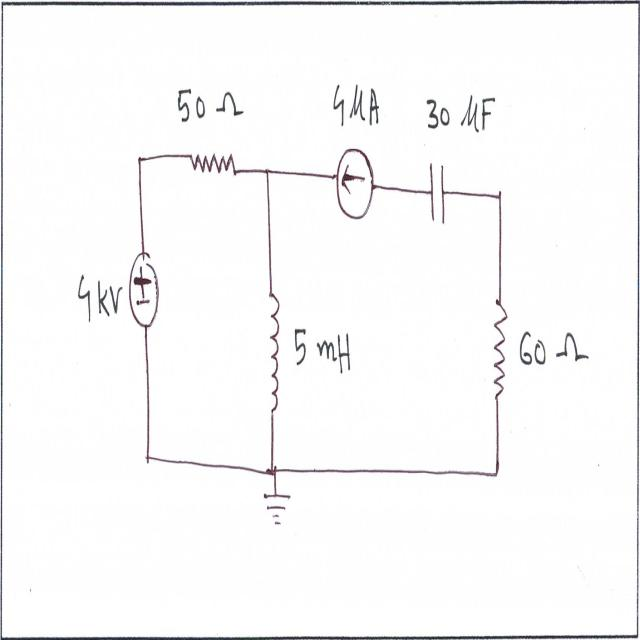capacitor: (425, 157, 450, 228)
current_source: (332, 142, 377, 222)
ground: (259, 486, 293, 534)
inductor: (267, 280, 283, 424)
resistor: (186, 144, 241, 188), (492, 293, 510, 405)
voltage_source: (126, 244, 163, 334)
